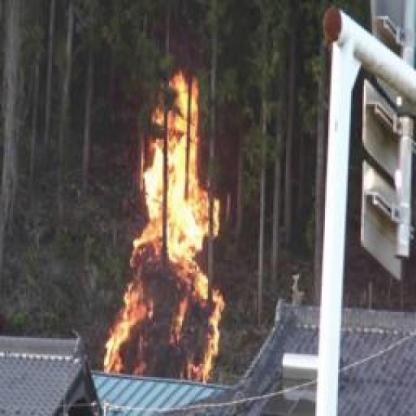fire: (95, 63, 227, 380)
